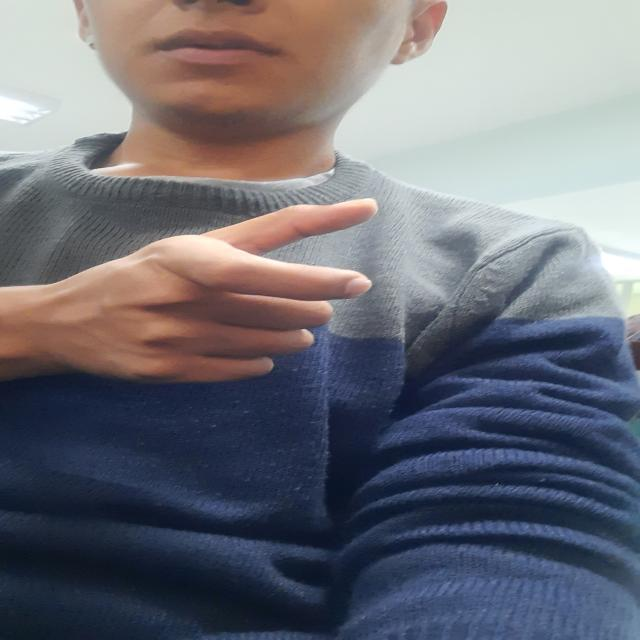G: (0, 190, 390, 390)
